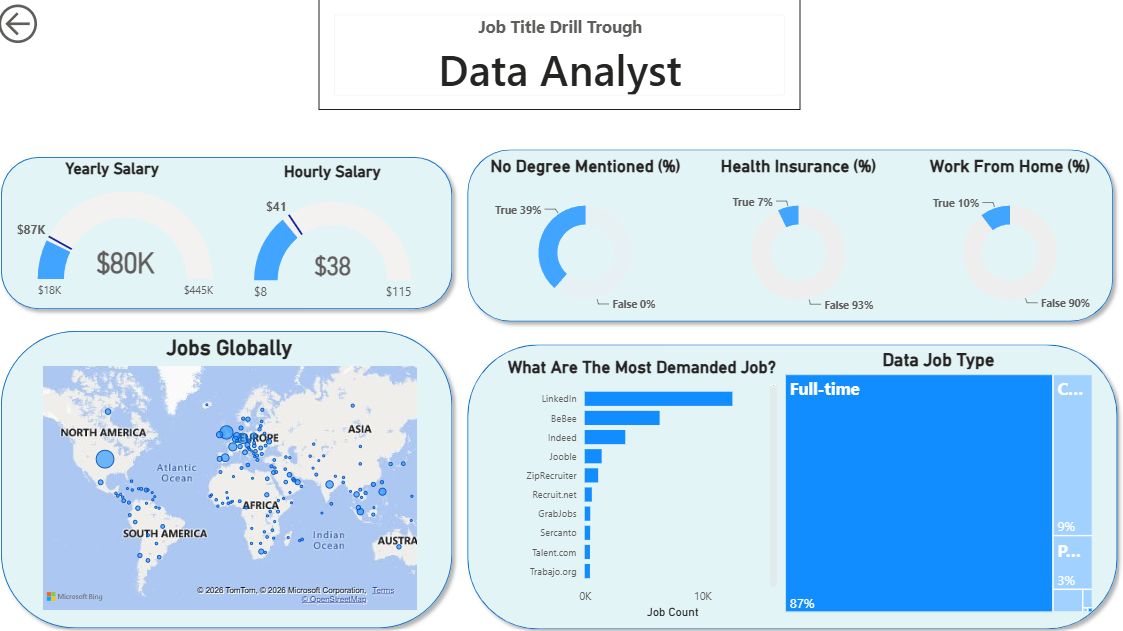

What the dashboard file says about the page in this screenshot:
{"tool":"powerbi","page":{"name":"Job Drill Trough","canvas":[1280,720],"ordinal":11},"visuals":[{"type":"group","id":"g1","title":"Group 1","box":[0,156,1280,564],"z":0},{"type":"shape","box":[0,170,528,190],"z":0,"group":"g1"},{"type":"cardVisual","fields":{"Data":["Min(job_postings_flat (1).job_title_short)"]},"box":[368,0,544,126],"z":1000},{"type":"shape","box":[0,366,528,354],"z":1000,"group":"g1"},{"type":"actionButton","box":[0,0,108,56],"z":2000},{"type":"shape","box":[550,382,730,338],"z":2000,"group":"g1"},{"type":"shape","box":[546,156,730,218],"z":3000,"group":"g1"},{"type":"gauge","title":"Hourly Salary","fields":{"Y":["Median(job_postings_flat (1).salary_hour_avg)"],"MinValue":["Min(job_postings_flat (1).salary_hour_avg)"],"MaxValue":["Max(job_postings_flat (1).salary_hour_avg)"],"TargetValue":["Avg(job_postings_flat (1).salary_hour_avg)"]},"box":[264,184,238,166],"z":3000},{"type":"gauge","title":"Yearly Salary","fields":{"Y":["Median(job_postings_flat (1).salary_year_avg)"],"MinValue":["Min(job_postings_flat (1).salary_year_avg)1"],"MaxValue":["Max(job_postings_flat (1).salary_year_avg)"],"TargetValue":["Avg(job_postings_flat (1).salary_year_avg)"]},"box":[16,182,238.7,166],"z":4000},{"type":"donutChart","title":"Work From Home (%)","fields":{"Category":["job_postings_flat (1).job_work_from_home"],"Y":["CountNonNull(job_postings_flat (1).job_work_from_home)"]},"box":[1040,170,240,196],"z":5000},{"type":"donutChart","title":"Health Insurance (%)","fields":{"Y":["CountNonNull(job_postings_flat (1).job_work_from_home)"],"Category":["job_postings_flat (1).job_health_insurance"]},"box":[804,170,240,196],"z":6000},{"type":"map","title":"Jobs Globally","fields":{"Size":["CountNonNull(job_postings_flat (1).job_no_degree_mention)"],"Category":["job_postings_flat (1).job_country"]},"box":[32,374,470,318],"z":7000},{"type":"treemap","title":"Data Job Type","fields":{"Group":["job_postings_flat (1).job_schedule_type"],"Values":["CountNonNull(job_postings_flat (1).job_schedule_type)"]},"box":[896.7,381.7,356.7,318.3],"z":8000},{"type":"clusteredBarChart","title":"What Are The Most Demanded Job?","fields":{"Y":["CountNonNull(job_postings_flat (1).job_title_short)"],"Category":["job_postings_flat (1).job_via"]},"box":[582,396,314,312],"z":9000},{"type":"donutChart","title":"No Degree Mentioned (%)","fields":{"Category":["job_postings_flat (1).job_no_degree_mention"],"Y":["CountNonNull(job_postings_flat (1).job_title_short)"]},"box":[564,170,240,196],"z":10000},{"type":"image","box":[1226,0,54,40],"z":11000}]}

Visuals, with their boxes in screenshot pixels (x1, y1, x2, y2), scaled from the page's 1280x720 canvas onto the 1123x631 screenshot:
"Group 1" group: bbox=[0, 137, 1122, 630]
shape: bbox=[0, 149, 463, 316]
cardVisual - Min(job_postings_flat (1).job_title_short): bbox=[323, 0, 800, 110]
shape: bbox=[0, 321, 463, 630]
actionButton: bbox=[0, 0, 95, 49]
shape: bbox=[483, 335, 1122, 630]
shape: bbox=[479, 137, 1119, 328]
"Hourly Salary" gauge: bbox=[232, 161, 440, 307]
"Yearly Salary" gauge: bbox=[14, 160, 223, 305]
"Work From Home (%)" donutChart: bbox=[912, 149, 1122, 321]
"Health Insurance (%)" donutChart: bbox=[705, 149, 916, 321]
"Jobs Globally" map: bbox=[28, 328, 440, 606]
"Data Job Type" treemap: bbox=[787, 335, 1100, 613]
"What Are The Most Demanded Job?" clusteredBarChart: bbox=[511, 347, 786, 620]
"No Degree Mentioned (%)" donutChart: bbox=[495, 149, 705, 321]
image: bbox=[1076, 0, 1122, 35]
